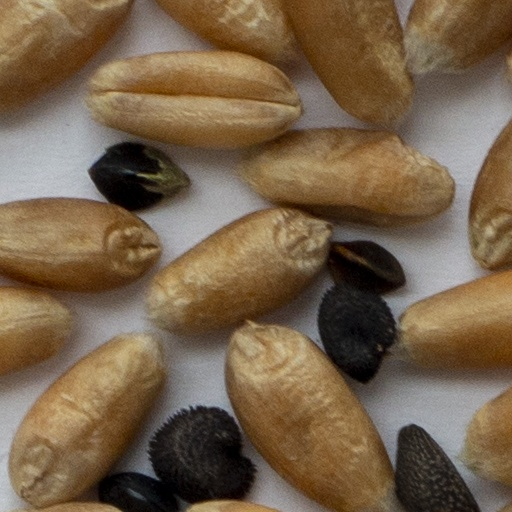Agrostemma-poly: (150, 408, 253, 502), (321, 283, 394, 378)
Convolvulus-poly: (396, 425, 479, 511)
Fallopia-Convolvulus-poly: (89, 143, 187, 210), (330, 242, 403, 292), (99, 472, 172, 511)
